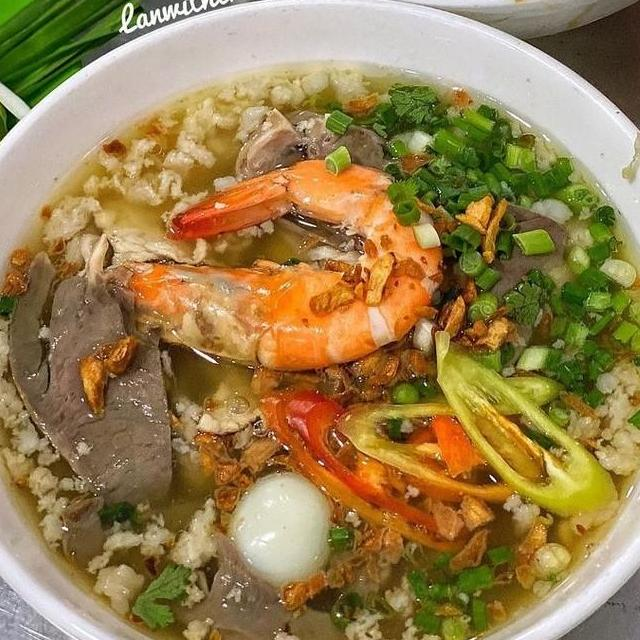thit bam: (92, 58, 380, 210), (0, 309, 98, 552), (77, 495, 227, 640), (544, 343, 640, 481), (334, 569, 452, 640), (34, 187, 112, 276)
thit heo: (90, 186, 258, 276)
tom: (102, 150, 450, 380)
trung: (224, 466, 336, 598)
